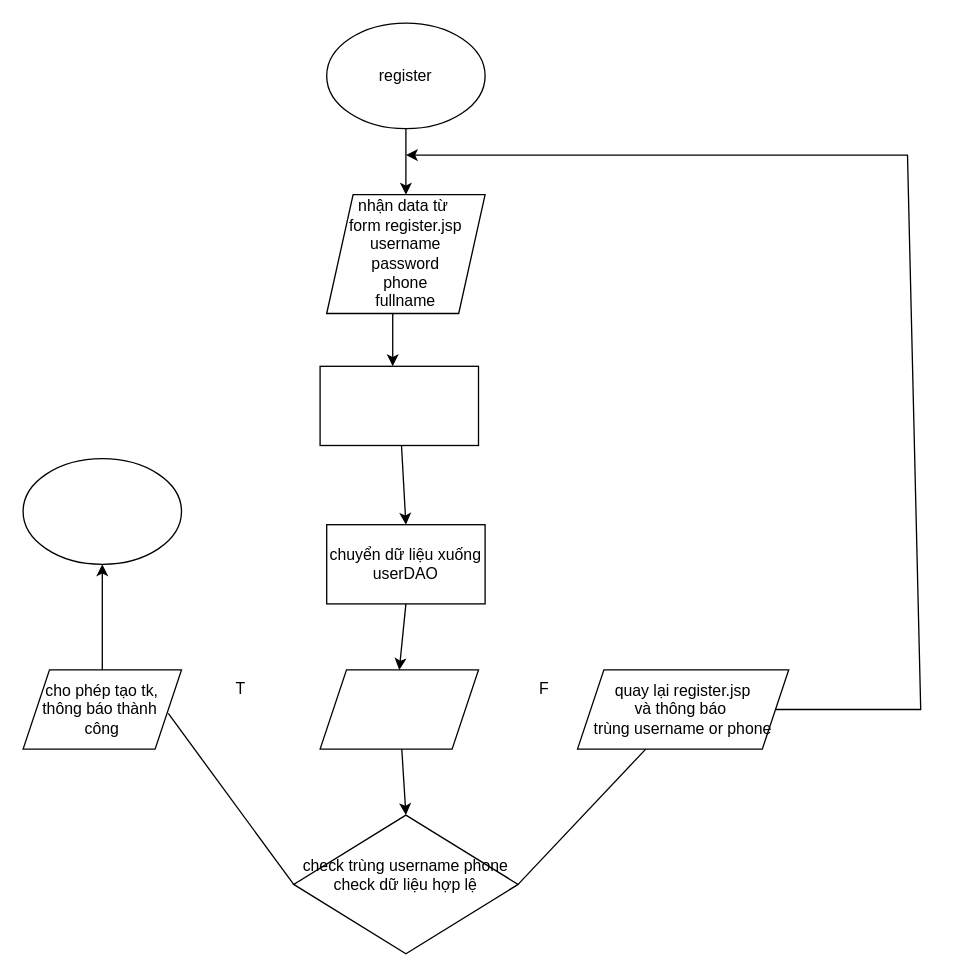
Image size: 954x977. Some labels were removed from this diagram. The centre of each missing label's shape, as x and y in pixels:
"chuyển data xuống registerController" goes at (x=398, y=405).
"login.jsp" goes at (x=102, y=510).
"registerController" goes at (x=398, y=709).
